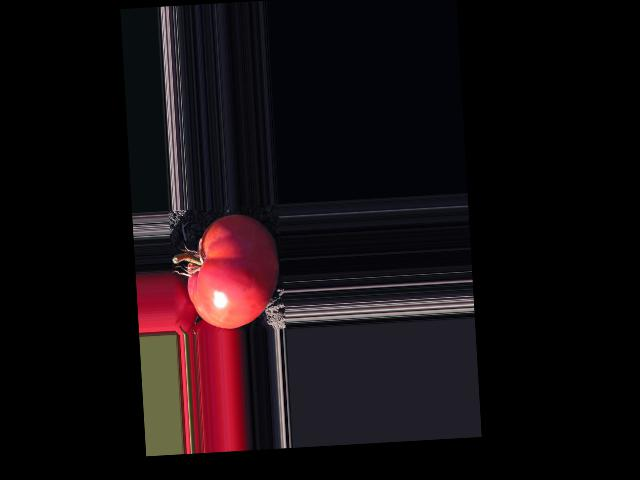tomato: (184, 211, 282, 330)
